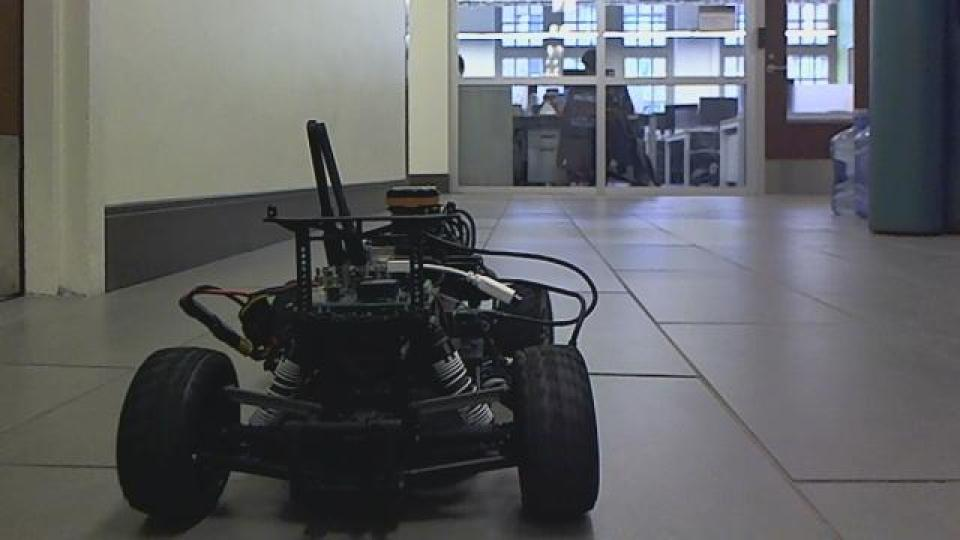car: (111, 117, 605, 531)
